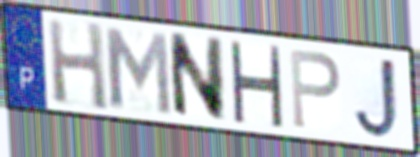H: (45, 17, 111, 114), (227, 38, 285, 130)
J: (352, 55, 402, 140)
M: (100, 24, 175, 118)
N: (165, 29, 227, 124)
P: (287, 46, 343, 132)
